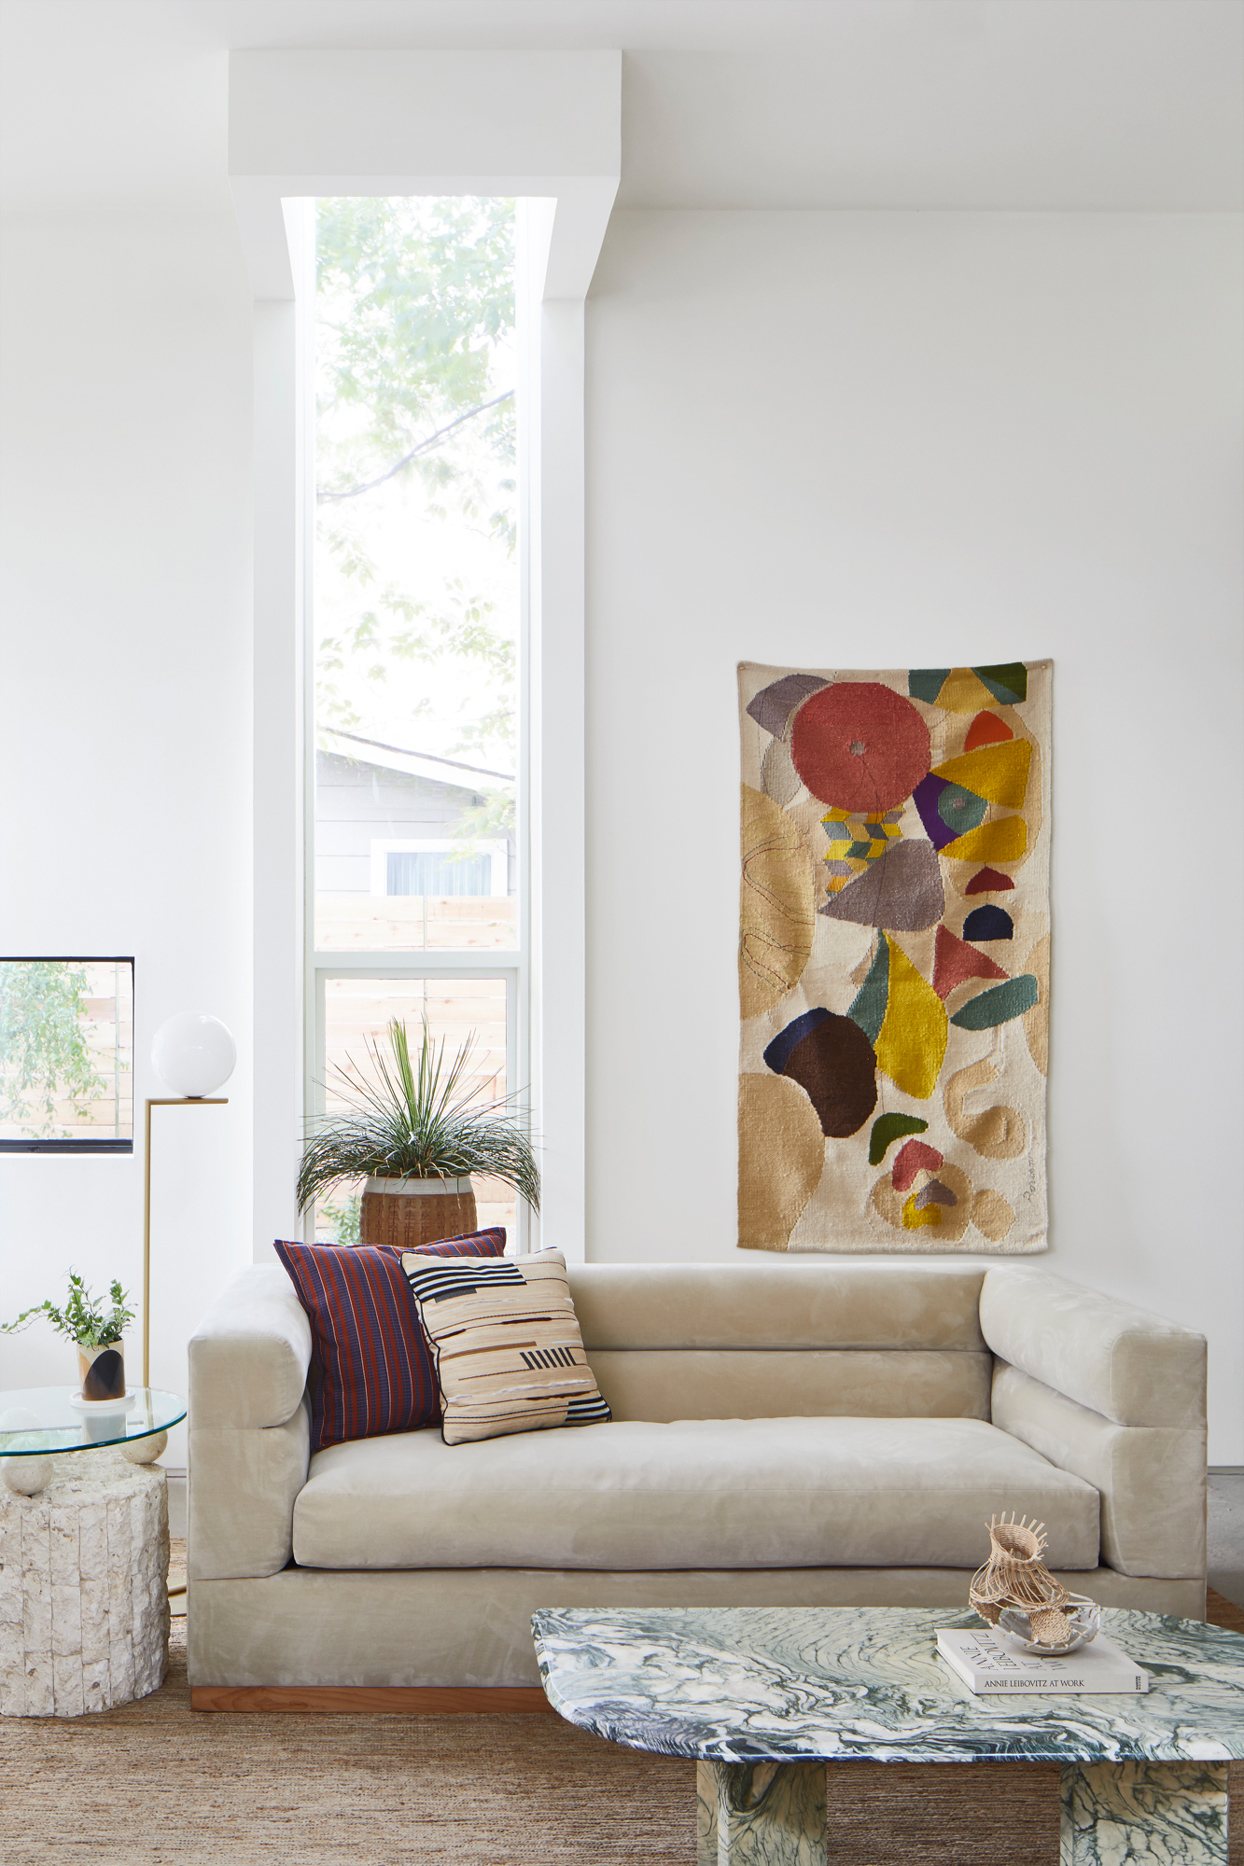putih: (144, 1014, 244, 1098)
